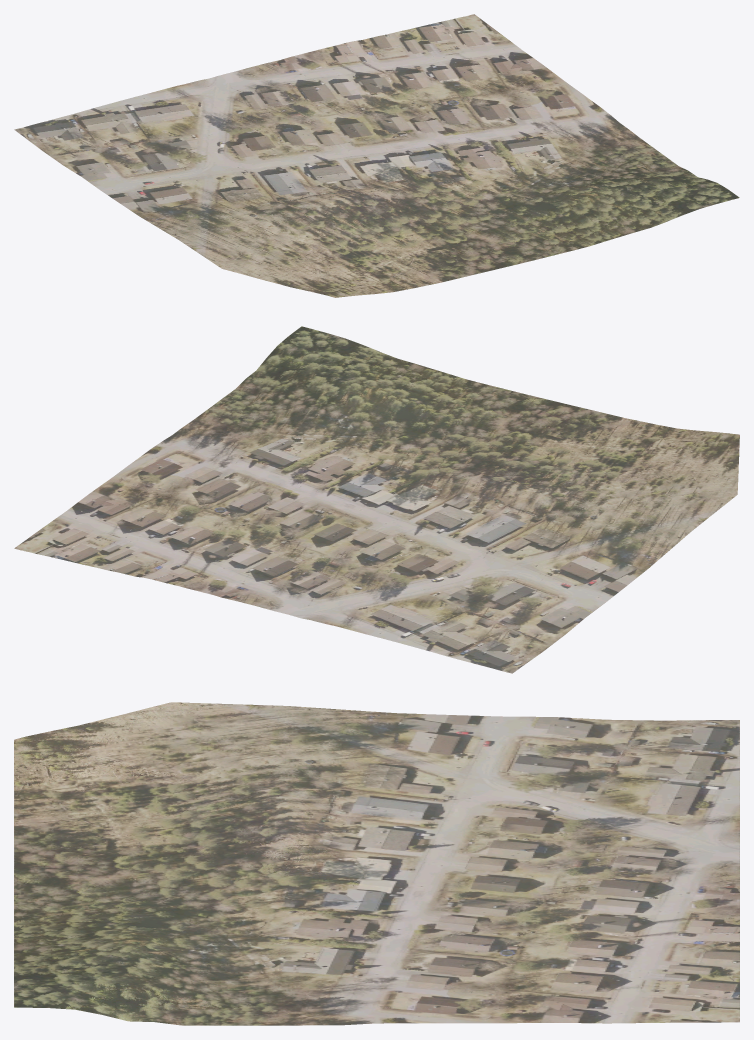
The model's file is CM_Terrain_24491892_6814264.fbx.
3 renders of one model, top to bottom at view 1: azimuth 30°, elevation 25°; view 2: azimuth 150°, elevation 25°; view 3: azimuth 270°, elevation 25°, orthographic. The views are drawn at different scales.
Visible parts, largest first — view 1: CM_Terrain_24491892_6814264_LOD0; view 2: CM_Terrain_24491892_6814264_LOD0; view 3: CM_Terrain_24491892_6814264_LOD0.
Part boxes in pixels (left/top/right/bottom): CM_Terrain_24491892_6814264_LOD0: left=14, top=14, right=739, bottom=297; CM_Terrain_24491892_6814264_LOD0: left=14, top=326, right=739, bottom=673; CM_Terrain_24491892_6814264_LOD0: left=14, top=702, right=739, bottom=1025.
Size of what is drawn, in the model's own units: 205 by 6.17 by 205.
